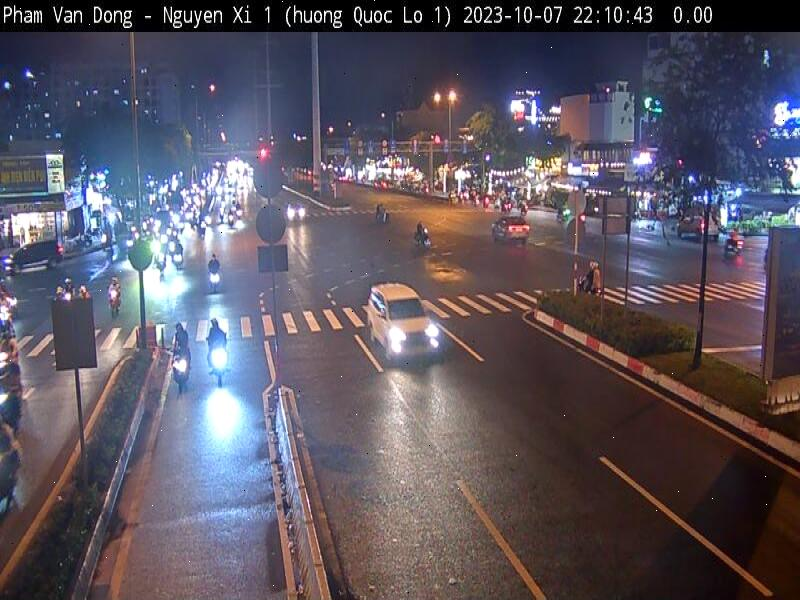car: (358, 276, 446, 377), (488, 215, 531, 254)
motorcycle: (204, 334, 239, 382), (169, 346, 196, 399)
